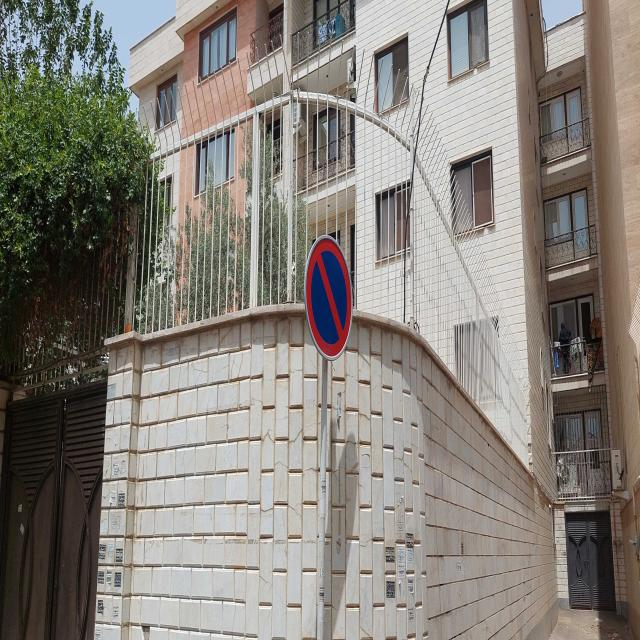forb_stopping: (306, 235, 353, 360)
